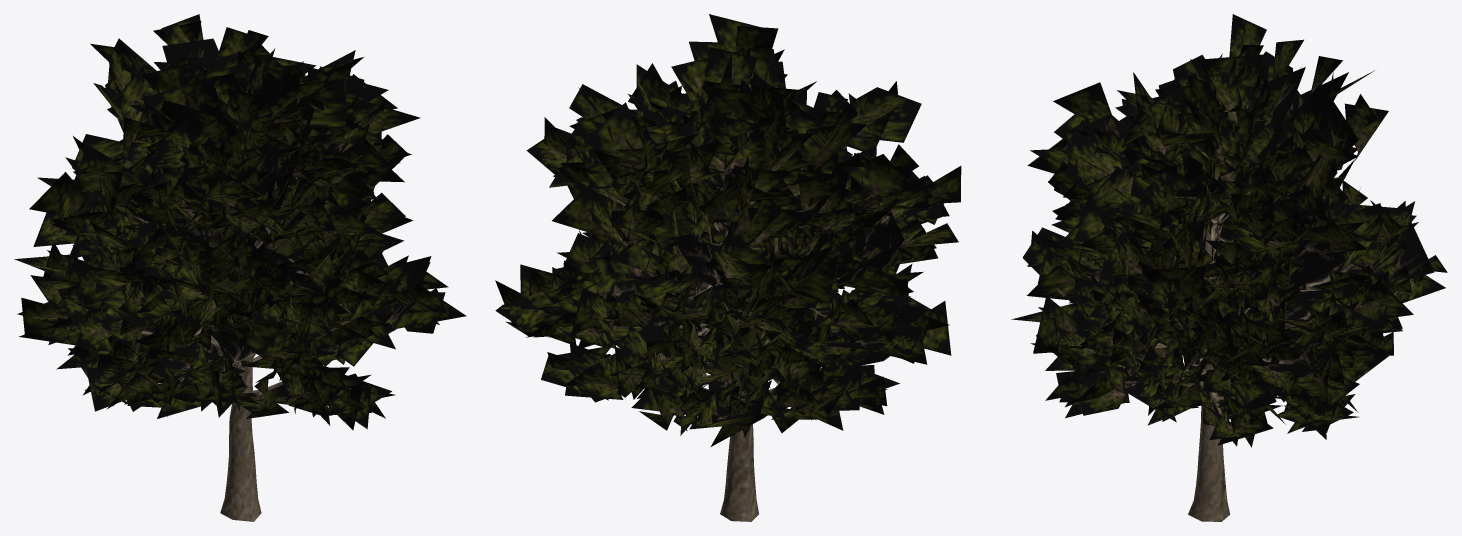
Rendered from tree3.obj.
The picture shows the model from 3 angles, left to right: view 1: azimuth 30°, elevation 25°; view 2: azimuth 150°, elevation 25°; view 3: azimuth 270°, elevation 25°; orthographic projection. The views are drawn at different scales.
Parts seen in each view (by area): view 1: Bak; view 2: Bak; view 3: Bak.
Part boxes in pixels (x1,y1,x2,y2): Bak: (14,14,466,521); Bak: (495,14,961,521); Bak: (1011,14,1447,521).
Bounding box in the file's own units: 56.52 × 60.57 × 53.39.
1 material, 1 textured.
